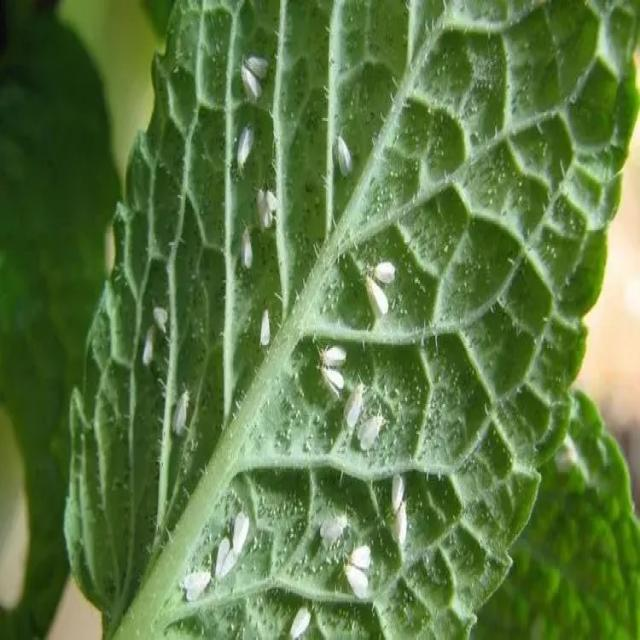Whitefly: (230, 41, 286, 367), (172, 488, 261, 625), (306, 330, 394, 460), (321, 498, 388, 606), (358, 240, 408, 338), (383, 478, 426, 574), (324, 118, 369, 186), (134, 298, 172, 363), (168, 372, 202, 441), (284, 588, 314, 640), (401, 460, 403, 474), (400, 468, 401, 470)
